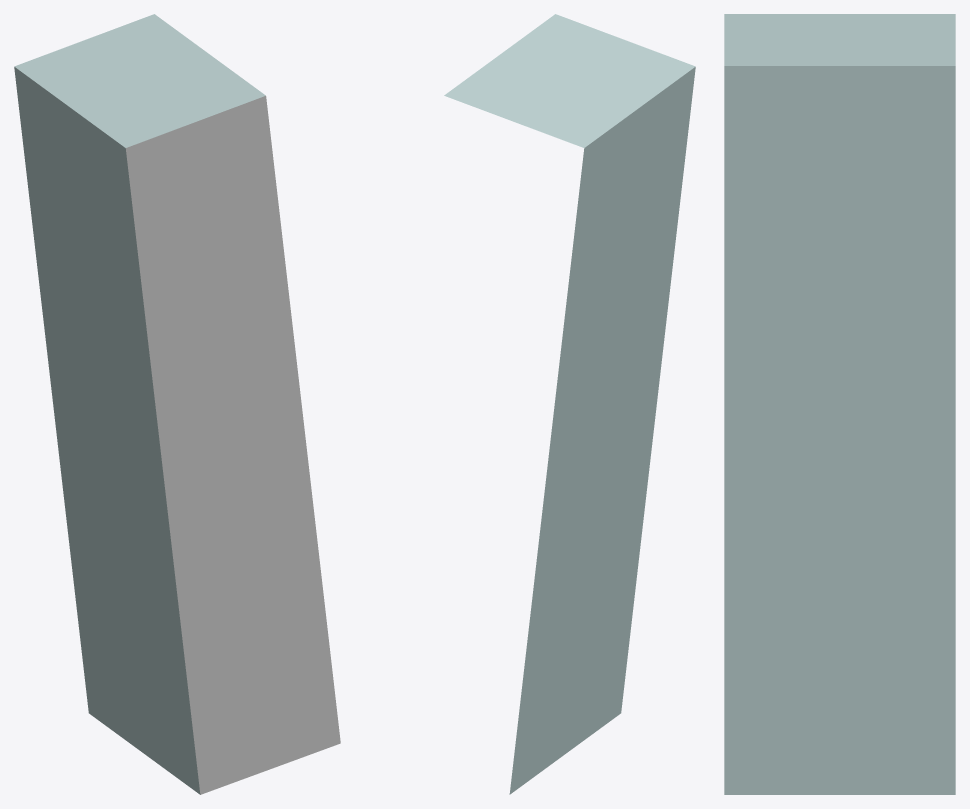
3 renders of one model, left to right at view 1: azimuth 30°, elevation 25°; view 2: azimuth 150°, elevation 25°; view 3: azimuth 270°, elevation 25°, orthographic. The views are drawn at different scales.
Parts seen in each view (by area): view 1: 0_1_1_2_3_1_2_3_0; view 2: 0_1_1_2_3_1_2_3_0; view 3: 0_1_1_2_3_1_2_3_0.
Boxes of the visible parts, x1,y1,x2,y2 form: 0_1_1_2_3_1_2_3_0: (14, 14, 340, 794); 0_1_1_2_3_1_2_3_0: (444, 14, 695, 794); 0_1_1_2_3_1_2_3_0: (724, 14, 955, 794).
Size of the model in its own units: 3.34 by 10.14 by 3.
